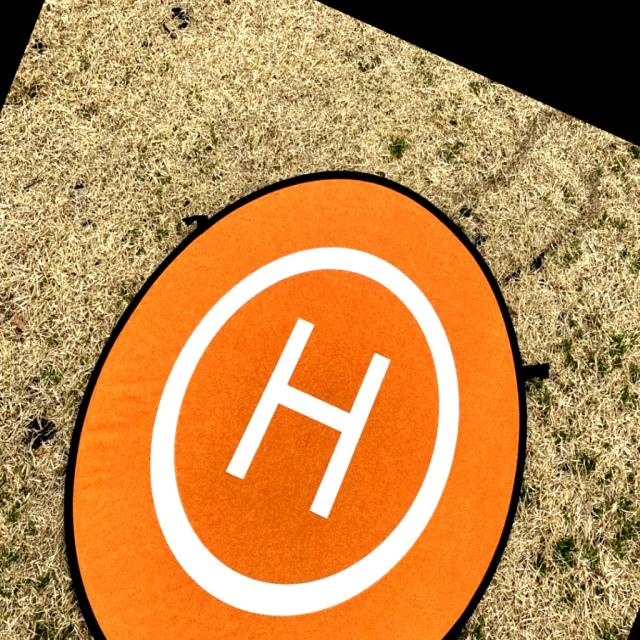helipad: (144, 239, 464, 622)
